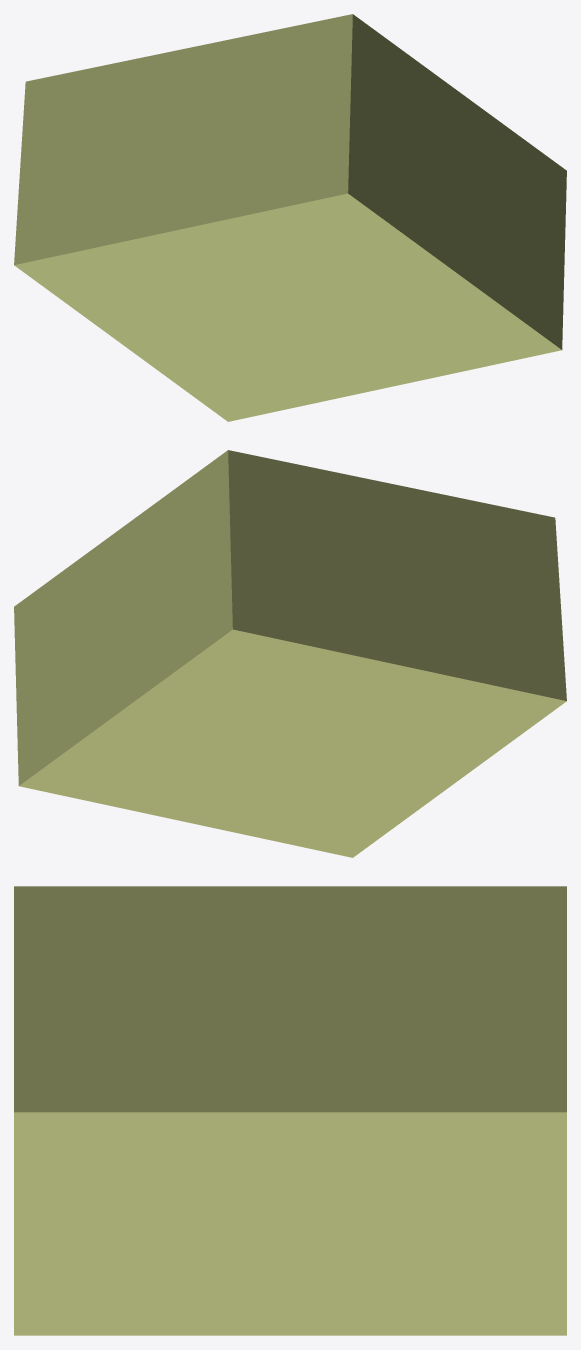
3 renders of one model, top to bottom at view 1: azimuth 30°, elevation 25°; view 2: azimuth 150°, elevation 25°; view 3: azimuth 270°, elevation 25°, orthographic. The views are drawn at different scales.
Parts seen in each view (by area): view 1: 0_1_0_0_1_0_2_2_1_1; view 2: 0_1_0_0_1_0_2_2_1_1; view 3: 0_1_0_0_1_0_2_2_1_1.
Part boxes in pixels (bbox=[...]): 0_1_0_0_1_0_2_2_1_1: bbox=[14, 14, 566, 421]; 0_1_0_0_1_0_2_2_1_1: bbox=[14, 450, 566, 857]; 0_1_0_0_1_0_2_2_1_1: bbox=[14, 886, 566, 1335].
Size of the model in its own units: 8.22 by 4.42 by 9.
